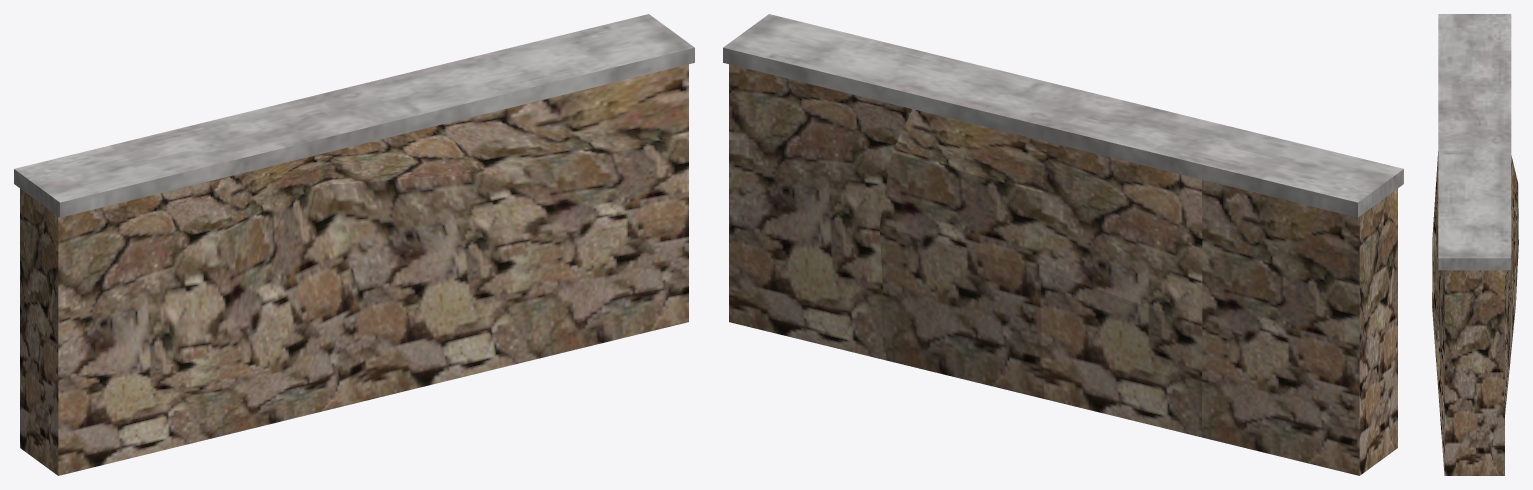
The model's file is StoneWall_Panel_Capped_Model.fbx.
3 views of the same model, side by side, from view 1: azimuth 30°, elevation 25°; view 2: azimuth 150°, elevation 25°; view 3: azimuth 270°, elevation 25° (orthographic). The views are drawn at different scales.
Visible parts, largest first — view 1: Body; view 2: Body; view 3: Body.
Part boxes in pixels (x1,y1,x2,y2): Body: (14, 14, 694, 475); Body: (723, 14, 1403, 475); Body: (1432, 14, 1518, 475).
Size of the model in its own units: 200 by 83.28 by 30.
